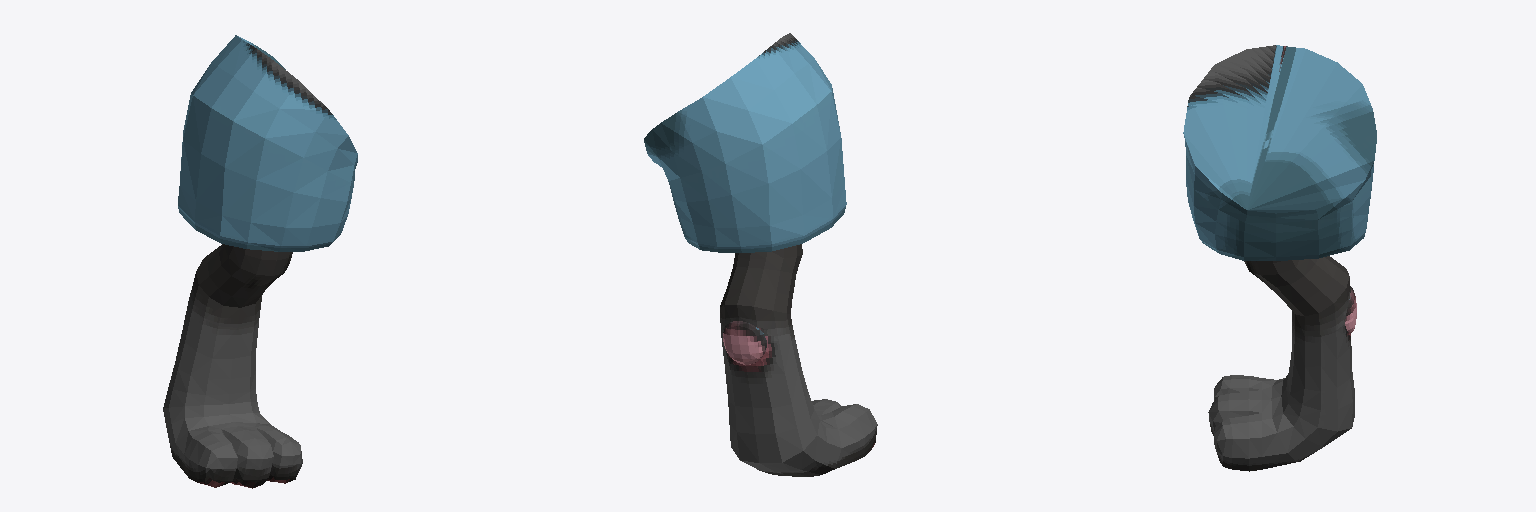
3 views of the same model, side by side, from view 1: azimuth 30°, elevation 25°; view 2: azimuth 150°, elevation 25°; view 3: azimuth 270°, elevation 25° (orthographic).
Visible parts, largest first — view 1: PiernaDer001; view 2: PiernaDer001; view 3: PiernaDer001.
Part boxes in pixels (x1,y1,x2,y2): PiernaDer001: (163,35,357,488); PiernaDer001: (644,33,877,476); PiernaDer001: (1183,45,1376,471).
Size of the model in its own units: 1.47 by 3.6 by 1.5.
1 materials, 1 textured.